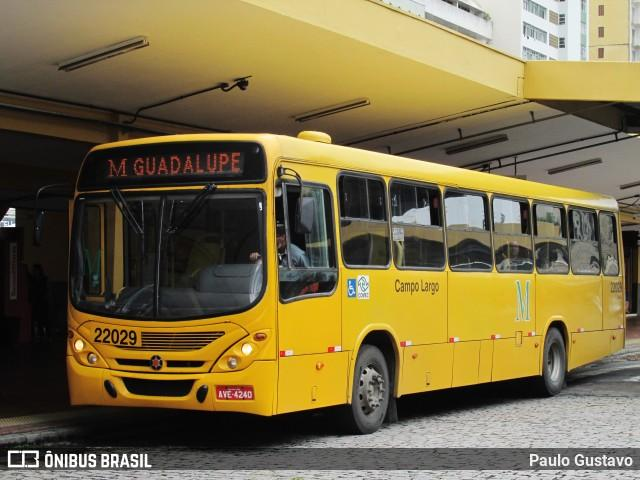GUADALUPE: (129, 148, 244, 180)
